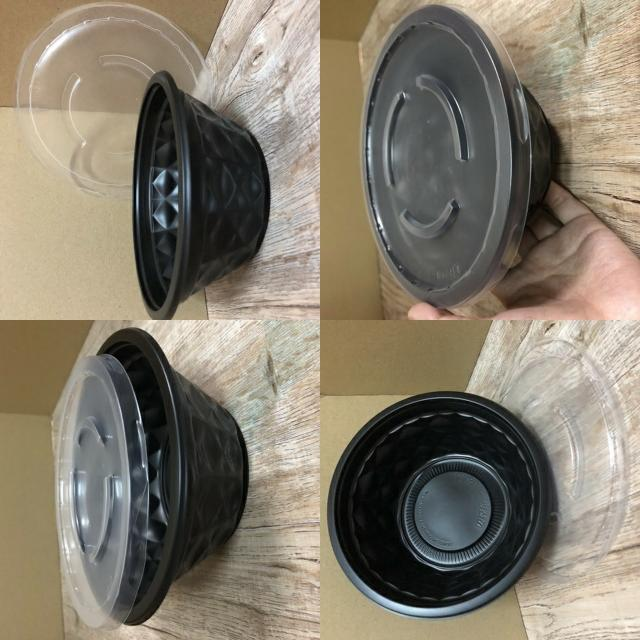Single-Use-Plastic: (56, 328, 249, 628), (362, 5, 552, 308), (329, 392, 551, 617), (16, 4, 211, 198), (132, 71, 270, 319), (500, 335, 628, 582)
